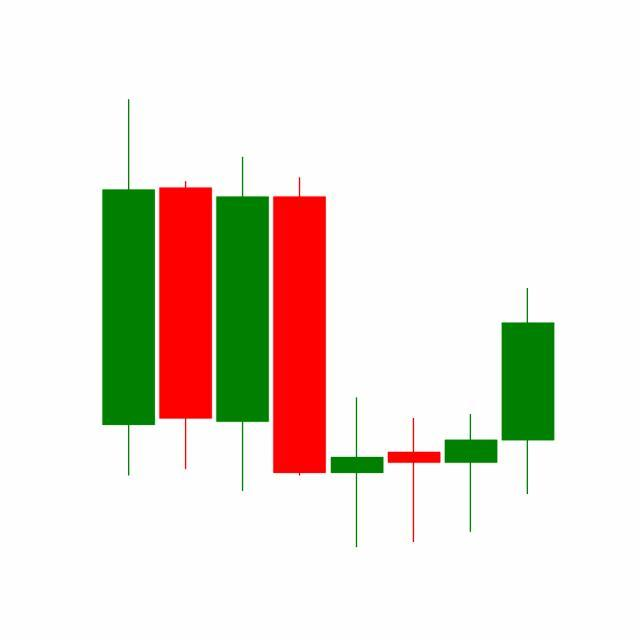Hikkake Pattern: (214, 153, 501, 549)
